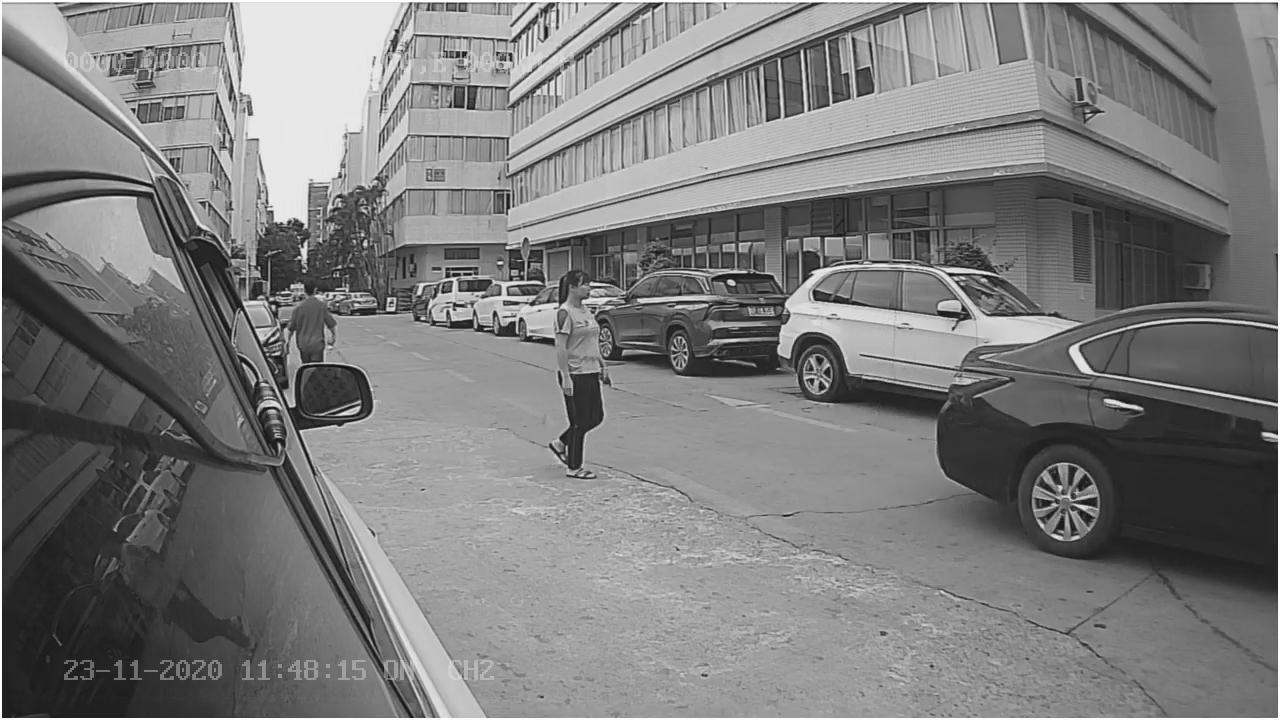person: (538, 271, 616, 480)
